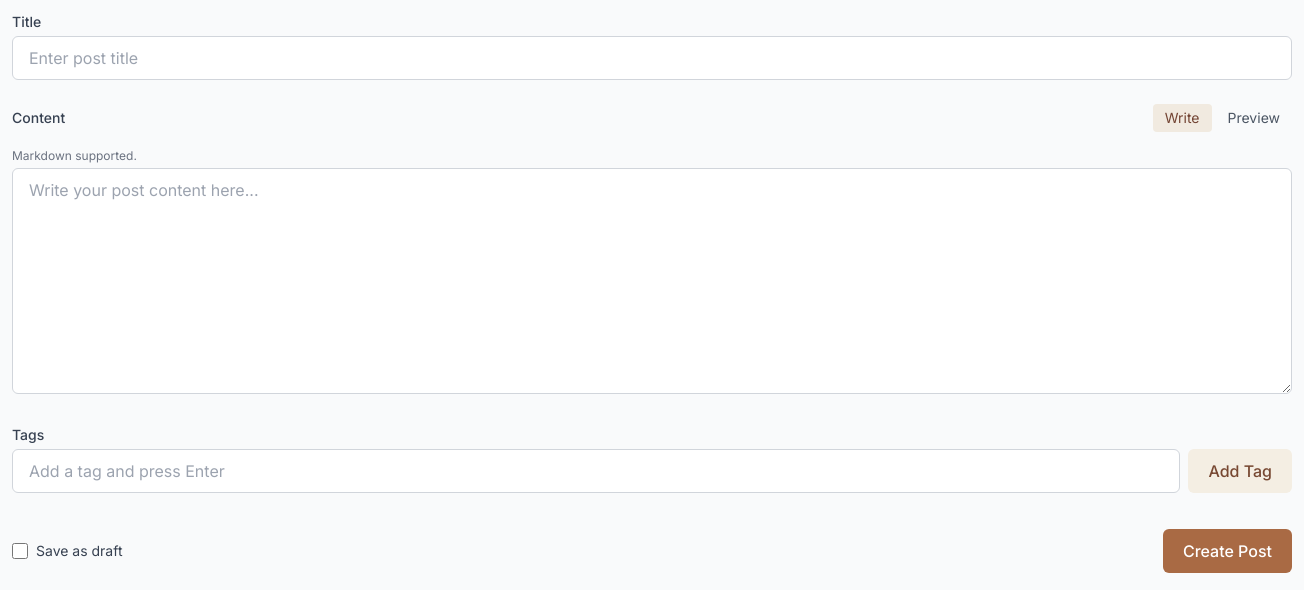
Test: PostForm preview › toggles between Write and Preview without losing content
This screenshot has width=1304, height=590.
Type "**hi**" into the text box labelled "Content" at (652, 281), box x1=12 y1=168 x2=1292 y2=394
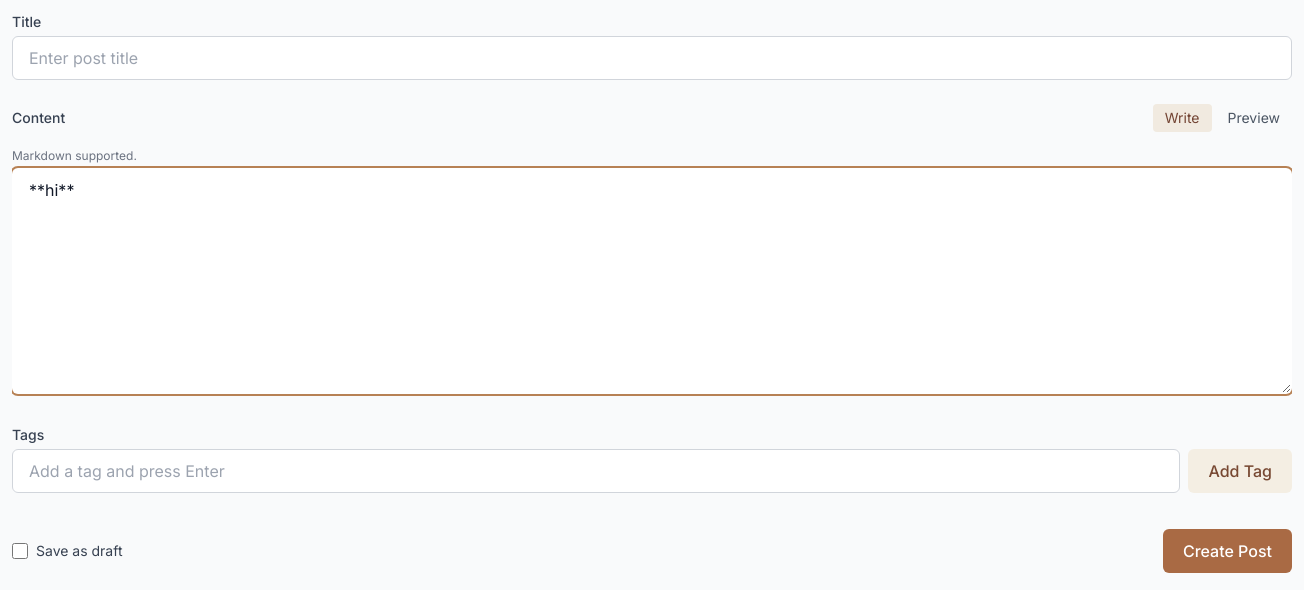
Click the tab "Preview" at (1254, 118), box x1=1216 y1=104 x2=1292 y2=132
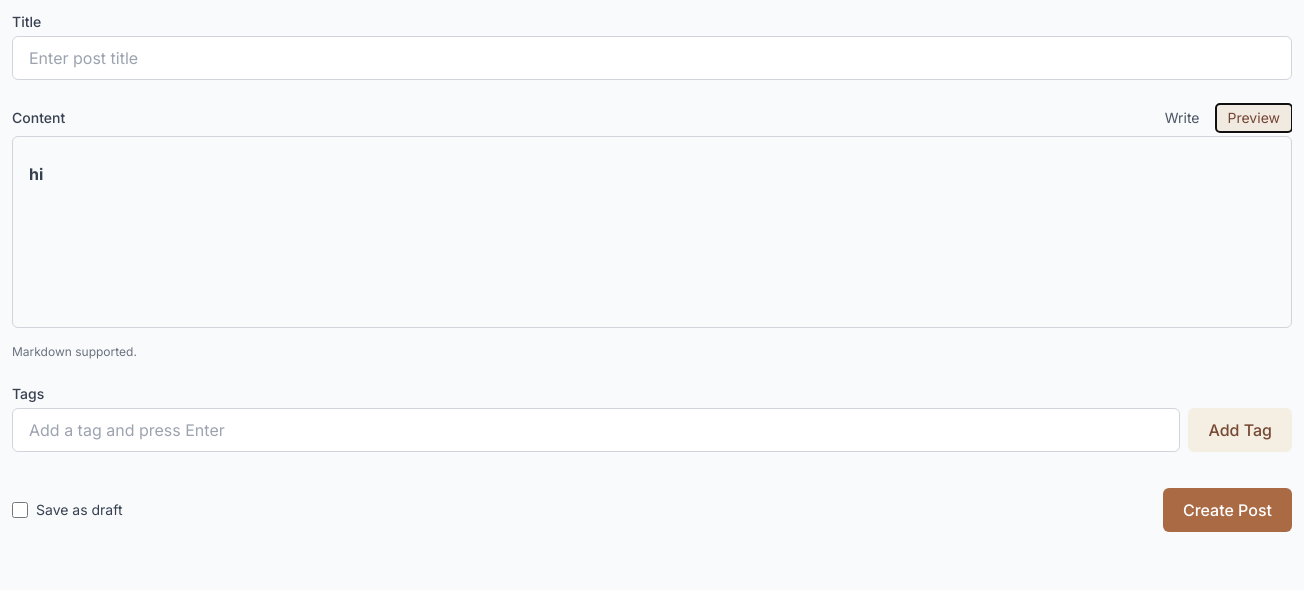
Expected: the element with test id "markdown-preview" is shown, x1=12 y1=136 x2=1292 y2=328
Click the tab "Write" at (1182, 118), box x1=1153 y1=104 x2=1212 y2=132
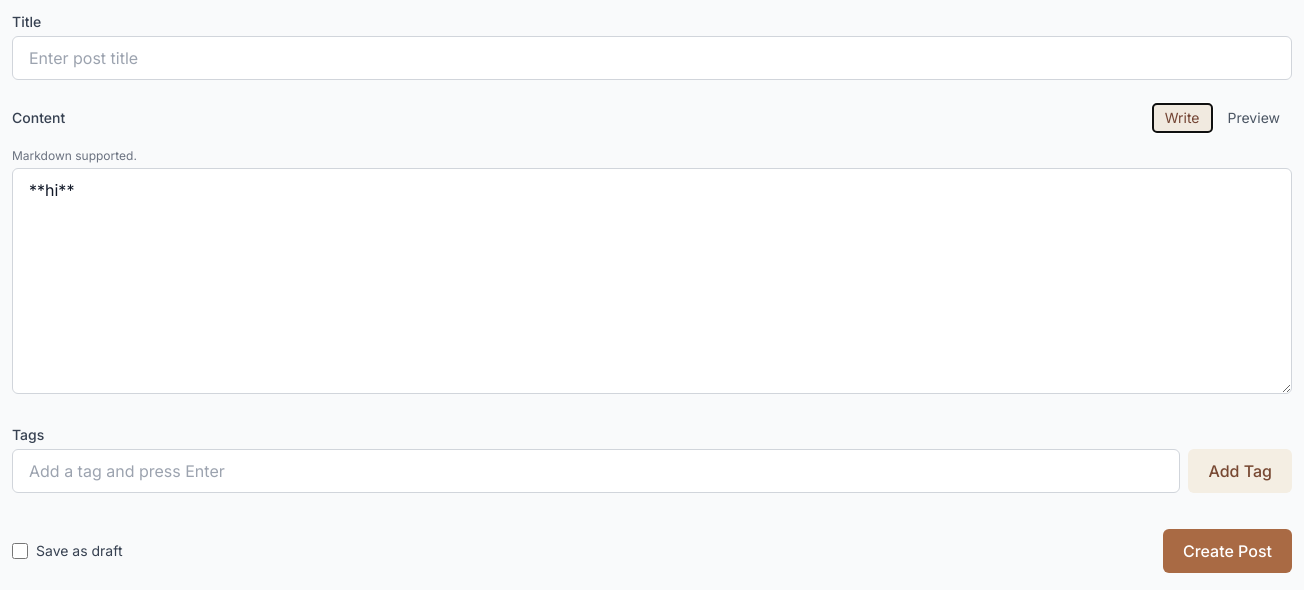
Expected: the element with test id "markdown-preview" is gone
